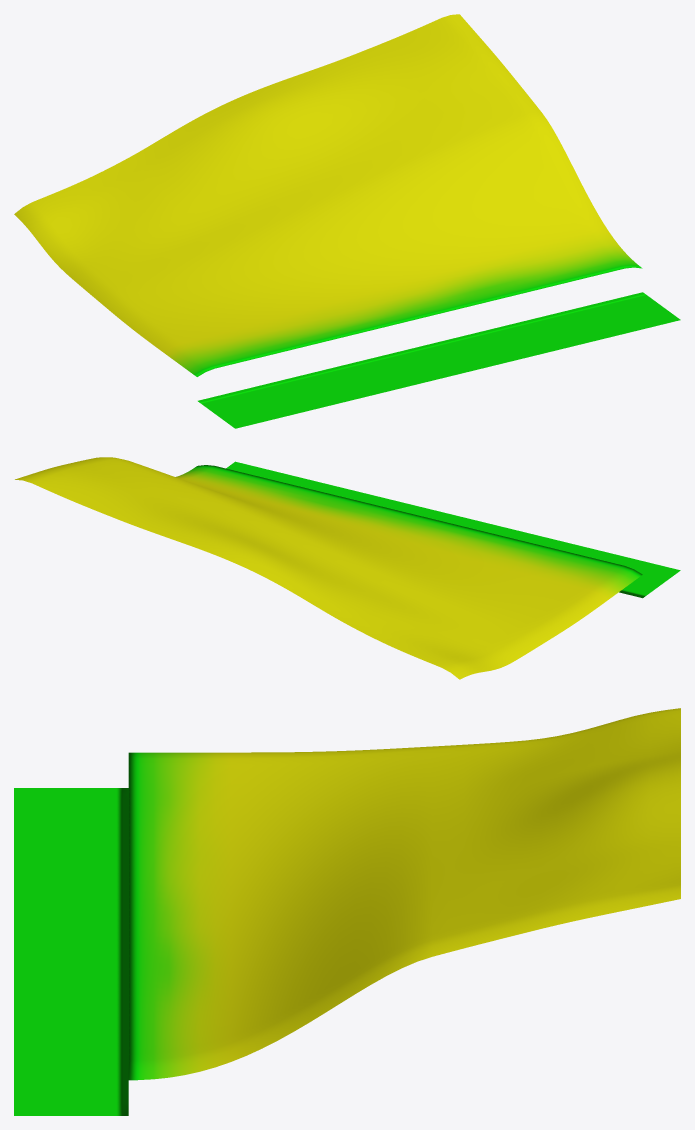
The model's file is terrain_2_2.glb.
3 renders of one model, top to bottom at view 1: azimuth 30°, elevation 25°; view 2: azimuth 150°, elevation 25°; view 3: azimuth 270°, elevation 25°, orthographic. The views are drawn at different scales.
Visible parts, largest first — view 1: terrain_2_2; view 2: terrain_2_2; view 3: terrain_2_2.
Boxes of the visible parts, bbox=[...] form: terrain_2_2: bbox=[14, 14, 680, 428]; terrain_2_2: bbox=[15, 457, 680, 679]; terrain_2_2: bbox=[14, 708, 680, 1115].
Bounding box in the file's own units: 50 × 15.57 × 43.
